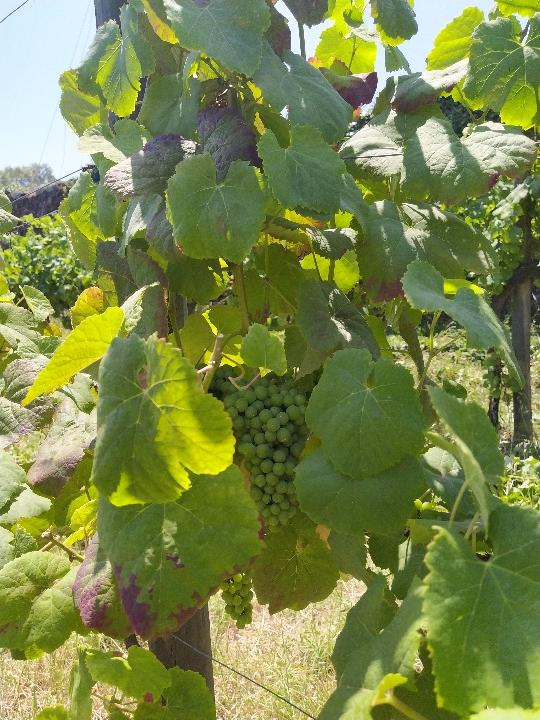grape: (220, 373, 315, 535)
